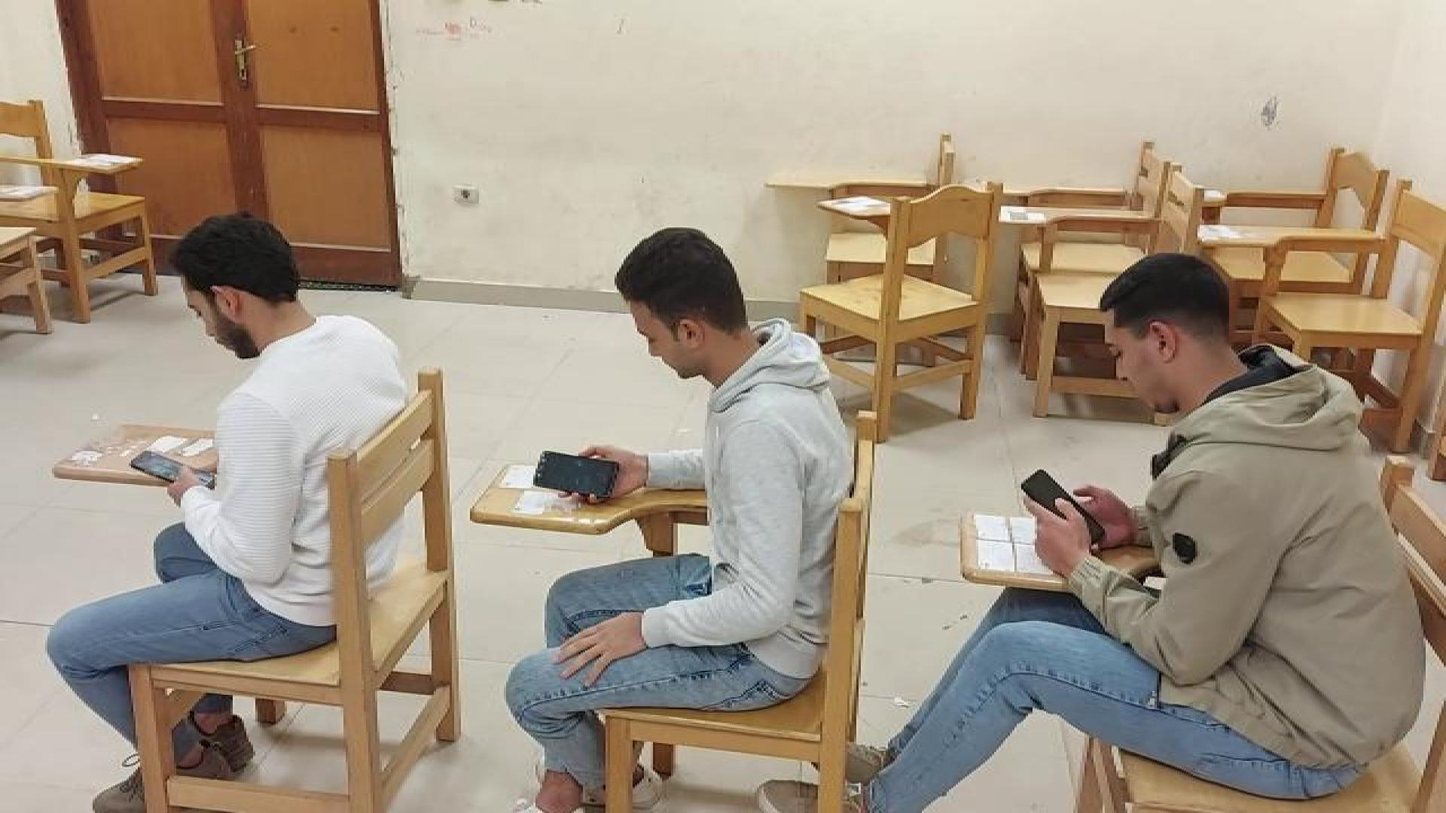phone: (1019, 470, 1112, 552), (529, 452, 624, 501), (129, 444, 217, 489)
